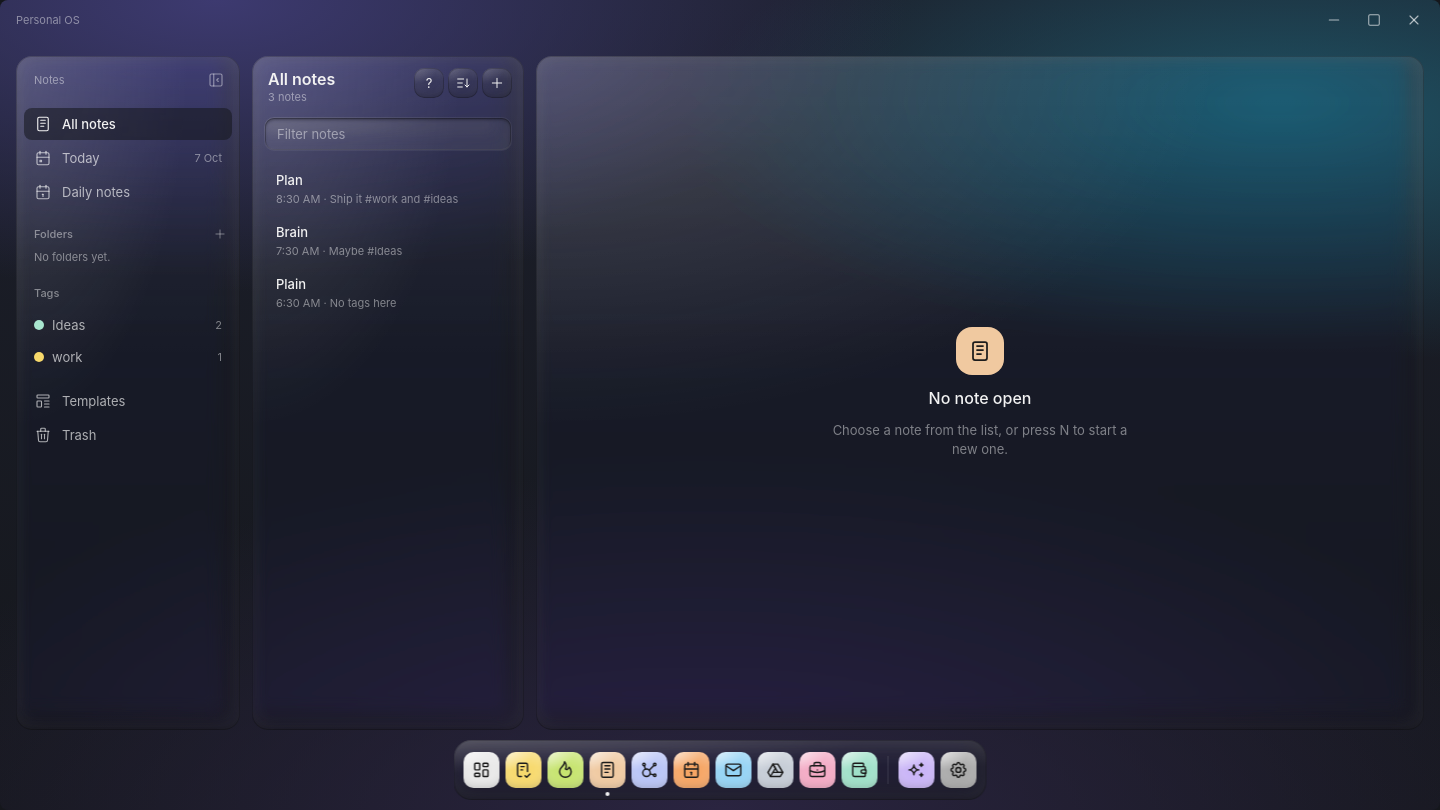
Test: the Tags section of the side panel › opens the Daily notes place from the side panel
The image size is (1440, 810).
expect the text "Plan" is shown: met, box [276,171,303,190]
Click the link "Daily notes".
click(82, 192)  # box [34,183,130,201]
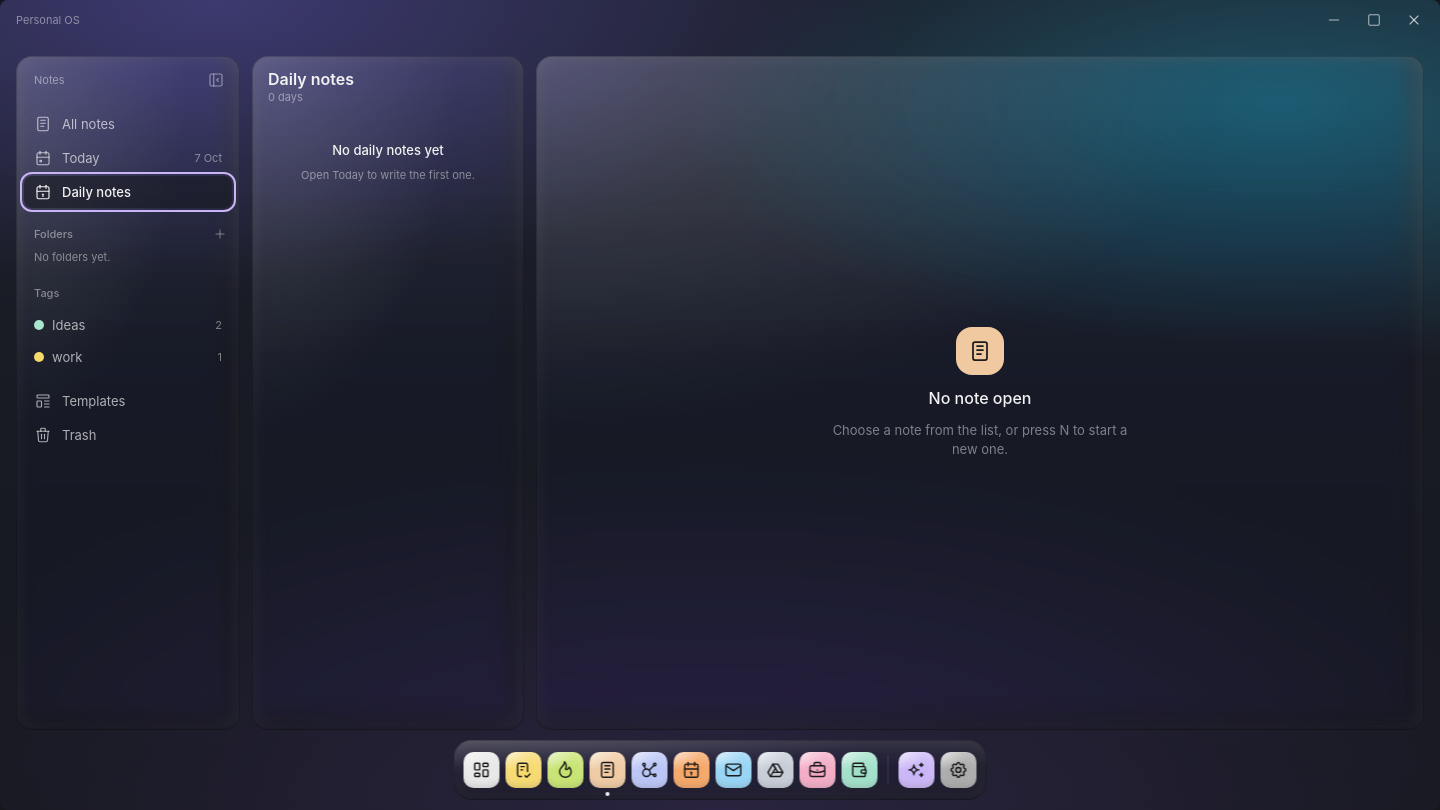
expect the element "Daily notes" is shown: met, box [252,56,524,730]
